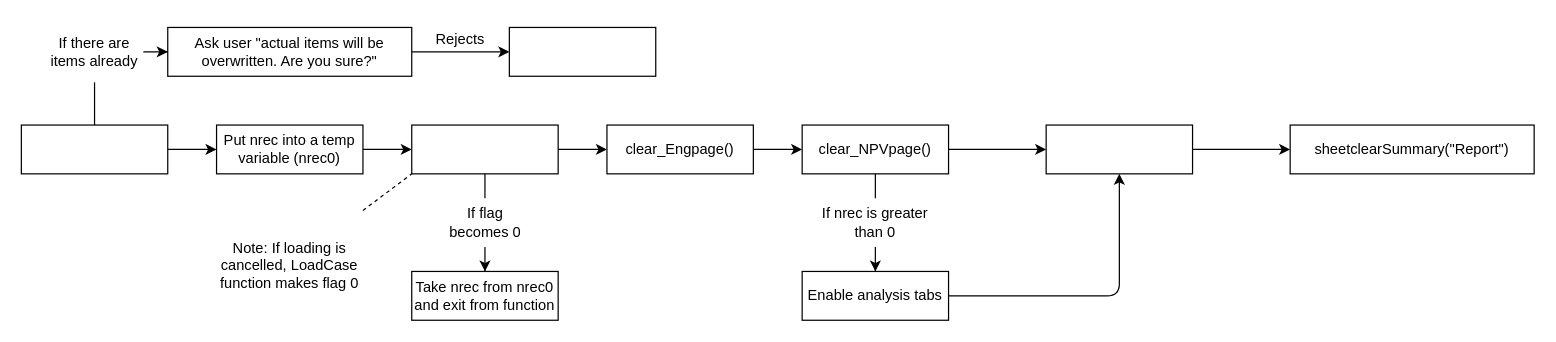
The diagram is 1556 pixels wide and 342 high, and some of its shapes have lost their labels. The box of each missing label's shape, as (x1, y1, x2, y2) in pixels:
Do nothing and exit function: (508, 26, 656, 76)
loadbutton_Click(): (20, 124, 168, 174)
LoadCase(flag): (411, 124, 558, 174)
Mc_NPV_Invalidate(): (1045, 124, 1193, 174)
